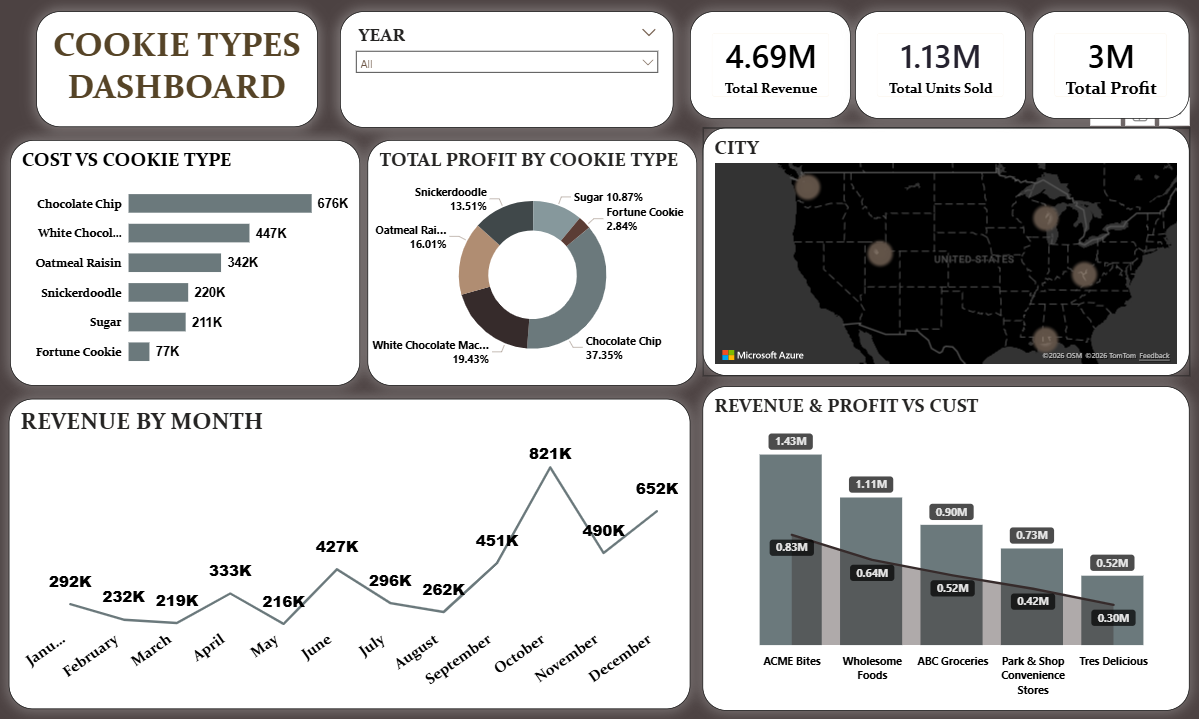

The dashboard page shown, as its layout file describes it:
{"tool":"powerbi","page":{"name":"Page 1","canvas":[1500,900],"ordinal":0},"visuals":[{"type":"clusteredBarChart","title":"COST VS COOKIE TYPE","fields":{"Category":["Cookie Types.Cookie Type"],"Y":["Sum(Orders.Cost)"]},"box":[12.5,175,437.5,307.1],"z":0},{"type":"azureMap","title":"CITY","fields":{"Category":["Customers.City"]},"box":[878.6,158.9,608.9,310.7],"z":1000},{"type":"cardVisual","fields":{"Data":["Orders.Total Profit"]},"box":[1290.5,13.7,195.8,134.7],"z":2000},{"type":"cardVisual","fields":{"Data":["Orders.Total Revenue"]},"box":[863.2,13.7,201.1,134.7],"z":3000},{"type":"cardVisual","fields":{"Data":["Orders.Total Units Sold"]},"box":[1069.5,13.7,213.7,134.7],"z":4000},{"type":"lineChart","title":"REVENUE BY MONTH","fields":{"Y":["Sum(Orders.Revenue)"],"Category":["Orders.Date.Variation.Date Hierarchy.Month"]},"box":[11.7,498.3,851.7,388.3],"z":5000},{"type":"lineClusteredColumnComboChart","title":"REVENUE & PROFIT VS CUST","fields":{"Category":["Customers.Name"],"Y":["Sum(Orders.Revenue)"],"Y2":["Orders.Total Profit"]},"box":[878.6,482.1,608.9,405.4],"z":6000},{"type":"donutChart","title":"TOTAL PROFIT BY COOKIE TYPE","fields":{"Y":["Orders.Total Profit"],"Category":["Cookie Types.Cookie Type"]},"box":[459.3,175.2,412.4,307.1],"z":7000},{"type":"slicer","fields":{"Values":["Orders.Date.Variation.Date Hierarchy.Year"]},"box":[425,14.1,417.2,145.3],"z":8000},{"type":"textbox","box":[44.6,14.3,351.8,144.6],"z":9000}]}

Visuals, with their boxes in screenshot pixels (x1, y1, x2, y2), scaled from the page's 1500x900 canvas onto the 1199x719 screenshot:
"COST VS COOKIE TYPE" clusteredBarChart: [x1=10, y1=140, x2=360, y2=385]
"CITY" azureMap: [x1=702, y1=127, x2=1189, y2=375]
cardVisual - Orders.Total Profit: [x1=1032, y1=11, x2=1188, y2=119]
cardVisual - Orders.Total Revenue: [x1=690, y1=11, x2=851, y2=119]
cardVisual - Orders.Total Units Sold: [x1=855, y1=11, x2=1026, y2=119]
"REVENUE BY MONTH" lineChart: [x1=9, y1=398, x2=690, y2=708]
"REVENUE & PROFIT VS CUST" lineClusteredColumnComboChart: [x1=702, y1=385, x2=1189, y2=709]
"TOTAL PROFIT BY COOKIE TYPE" donutChart: [x1=367, y1=140, x2=697, y2=385]
slicer - Orders.Date.Variation.Date Hierarchy.Year: [x1=340, y1=11, x2=673, y2=127]
textbox: [x1=36, y1=11, x2=317, y2=127]
